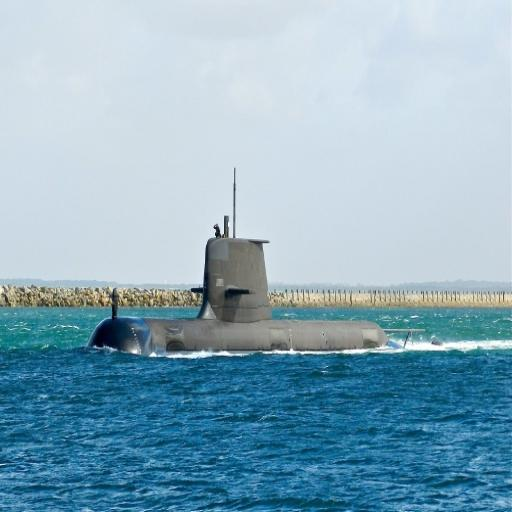submarine: (85, 225, 446, 354)
